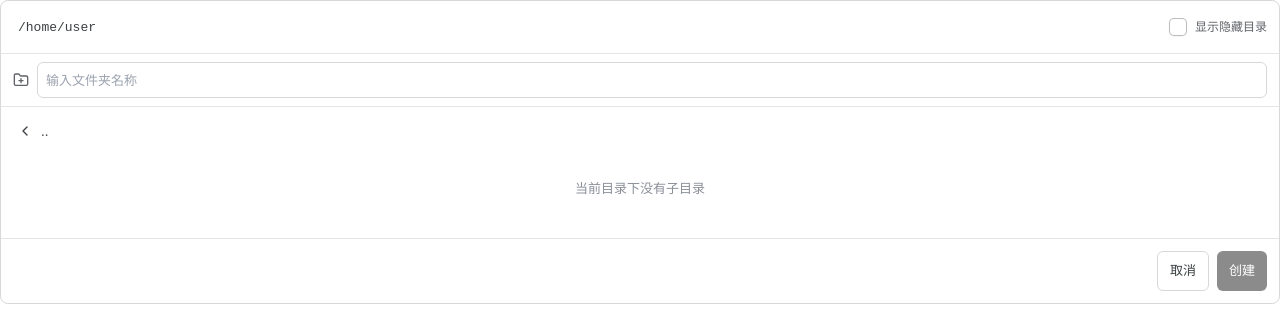
Test: DeviceFolderPicker › shows directory creation errors without closing
The image size is (1280, 321).
Step 1. Type "new-app" into the field with test id "device-folder-name-input" → (652, 80), box [37, 62, 1267, 98]
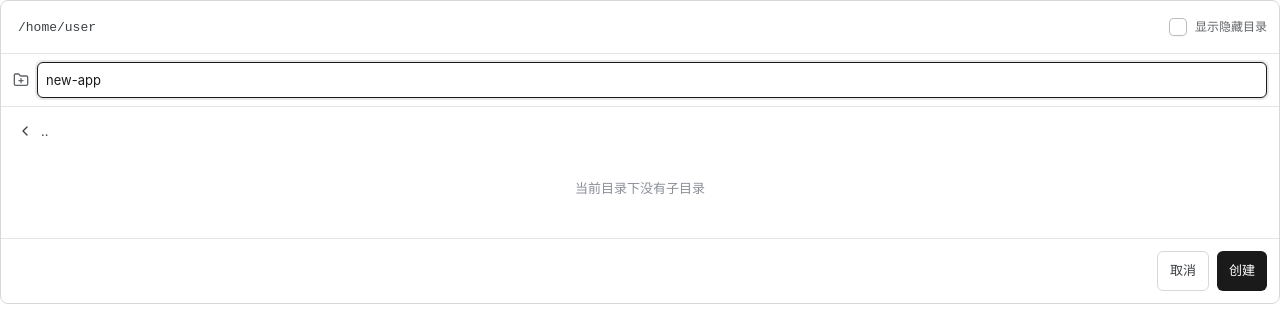
Step 2. Click the button with test id "confirm-device-folder-picker-button" → (1242, 271), box [1217, 251, 1267, 291]
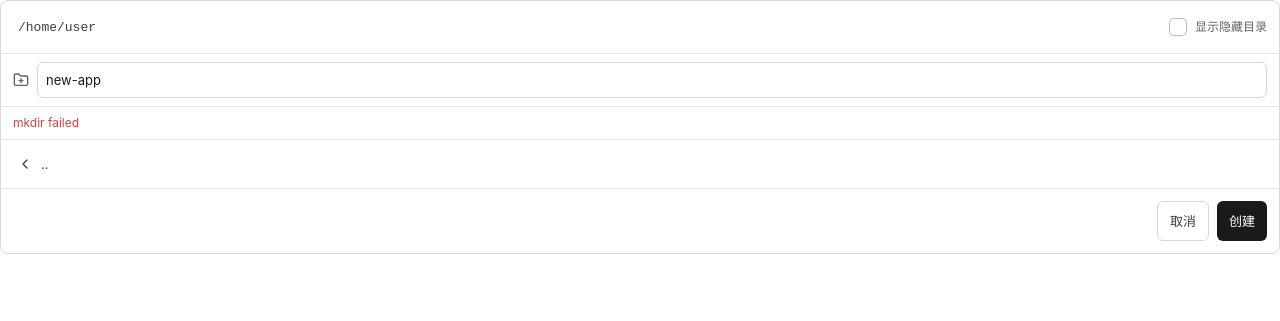
Check: the text with test id "device-folder-picker-error" reads "mkdir failed", box [13, 115, 79, 130]
